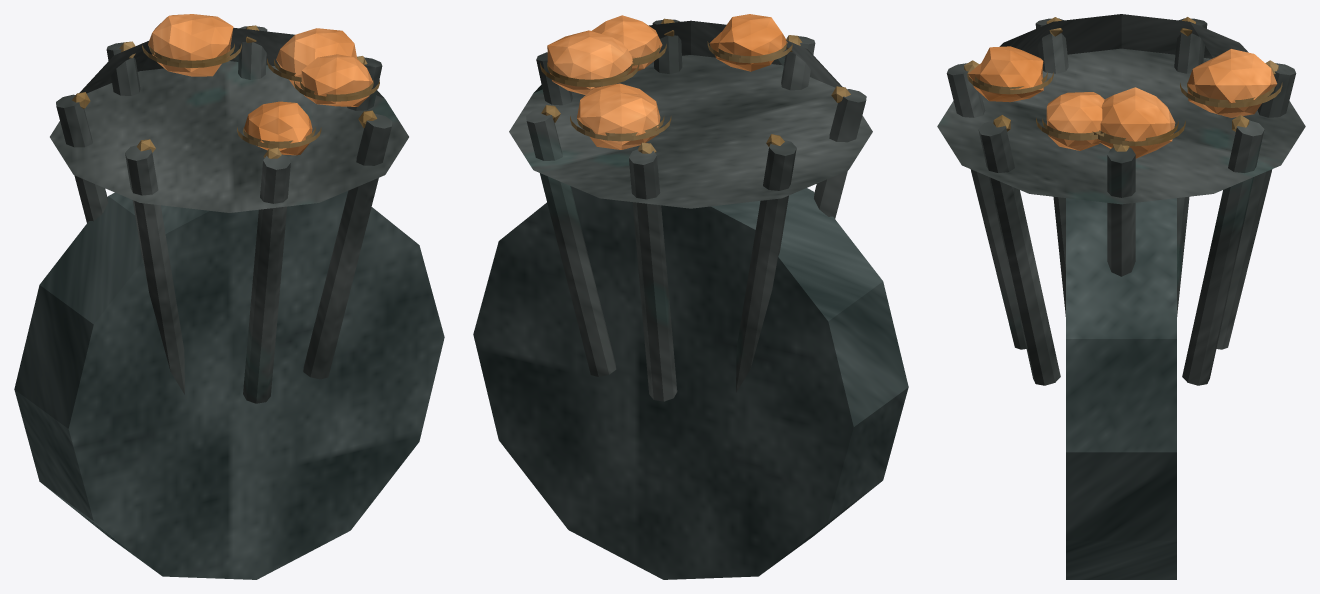
The model's file is 0549_brazier_24.glb.
The picture shows the model from 3 angles, left to right: view 1: azimuth 30°, elevation 25°; view 2: azimuth 150°, elevation 25°; view 3: azimuth 270°, elevation 25°; orthographic projection. The views are drawn at different scales.
Visible parts, largest first — view 1: stone_dark, iron, amber, brass; view 2: stone_dark, iron, amber, brass; view 3: iron, stone_dark, amber, brass.
Part boxes in pixels (x1,y1,x2,y2): stone_dark: [14, 191, 444, 579]; iron: [50, 26, 408, 403]; amber: [148, 14, 372, 155]; brass: [72, 25, 379, 158]; stone_dark: [473, 186, 908, 579]; iron: [509, 19, 872, 401]; amber: [547, 14, 787, 149]; brass: [540, 18, 850, 153]; iron: [937, 14, 1305, 385]; stone_dark: [1066, 198, 1176, 579]; amber: [968, 46, 1277, 158]; brass: [964, 17, 1282, 151].
Size of the model in its own units: 1.4 by 1.77 by 1.16.
Materials: 4 (4 with a texture image).
